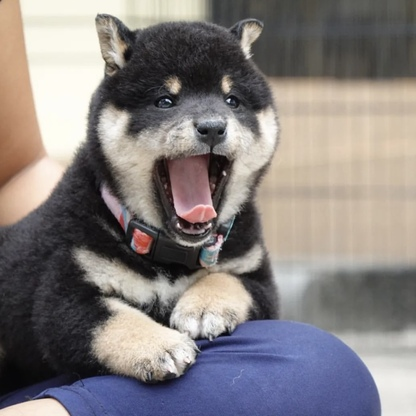shiba: (1, 10, 293, 386)
